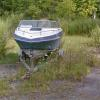Boat: (9, 14, 67, 68)
